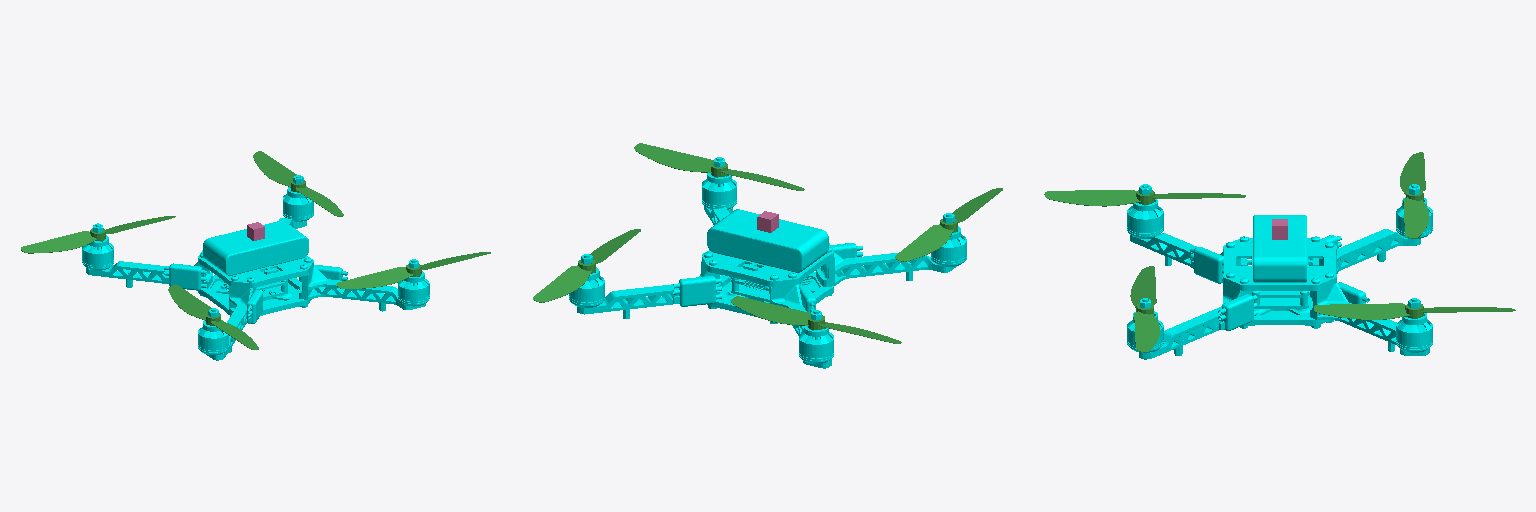
URDF robot description (drone):
<?xml version="1.0" ?>
<!-- =================================================================================== -->
<!-- |    This document was autogenerated by xacro from drone.urdf.xacro               | -->
<!-- |    EDITING THIS FILE BY HAND IS NOT RECOMMENDED                                 | -->
<!-- =================================================================================== -->
<robot name="drone">
  <material name="blue">
    <color rgba="0 0 1 1"/>
  </material>
  <material name="grey">
    <color rgba="0.75 0.75 0.75 1"/>
  </material>
  <material name="WHITE_MTL">
    <color rgba="0 255 255 1.0"/>
    <!-- rviz green color -->
  </material>
  <link name="dummy_link">
    <pose>0 0 0 0 0 0</pose>
  </link>
  <joint name="dummy_joint" type="fixed">
    <parent link="dummy_link"/>
    <child link="base_link"/>
  </joint>
  <link name="base_link">
    <inertial>
      <origin rpy="0 0 0" xyz="0 0 0.02"/>
      <mass value="2"/>
      <inertia ixx="0.0049386751078625" ixy="0" ixz="0" iyy="0.0049386751078625" iyz="0" izz="0.009296329614800002"/>
    </inertial>
    <visual>
      <origin rpy="0 0 0" xyz="0 0 0"/>
      <geometry>
        <mesh filename="package://drone/meshes/base_link.STL"/>
      </geometry>
      <material name="WHITE_MTL"/>
    </visual>
    <collision>
      <origin rpy="0 0 0" xyz="0 0 0"/>
      <geometry>
        <mesh filename="package://drone/meshes/base_link.STL"/>
      </geometry>
    </collision>
  </link>
  <gazebo reference="base_link">
    <material>Gazebo/Black</material>
  </gazebo>
  <link name="prop_1">
    <inertial>
      <origin rpy="0 0 0" xyz="1.38777878078145E-17 1.6252017232217E-05 1.38777878078145E-17"/>
      <mass value="0.00097325565732889"/>
      <inertia ixx="6.26992620308679E-07" ixy="-3.30120444584961E-24" ixz="7.98941079078638E-09" iyy="6.38900379274268E-07" iyz="1.24797735656839E-23" izz="1.55888758686964E-08"/>
    </inertial>
    <visual>
      <origin rpy="0 0 0" xyz="0 0 0"/>
      <geometry>
        <mesh filename="package://drone/meshes/prop_1.STL"/>
      </geometry>
      <material name="">
        <color rgba="0.286274509803922 0.662745098039216 0.329411764705882 1"/>
      </material>
    </visual>
    <collision>
      <origin rpy="0 0 0" xyz="0 0 0"/>
      <geometry>
        <mesh filename="package://drone/meshes/prop_1.STL"/>
      </geometry>
    </collision>
  </link>
  <joint name="motor_1" type="continuous">
    <origin rpy="1.5708 0 1.59" xyz="-0.084853 0.084853 0.0335"/>
    <parent link="base_link"/>
    <child link="prop_1"/>
    <axis xyz="0 1 0"/>
    <limit effort="1000000" lower="-1000000" upper="1000000" velocity="1000000"/>
  </joint>
  <link name="prop_2">
    <inertial>
      <origin rpy="0 0 0" xyz="0 1.6252017232217E-05 -2.77555756156289E-17"/>
      <mass value="0.000973255657328893"/>
      <inertia ixx="6.26992620308679E-07" ixy="2.22863875678516E-24" ixz="7.98941079078498E-09" iyy="6.38900379274269E-07" iyz="-7.82816974953869E-25" izz="1.55888758686964E-08"/>
    </inertial>
    <visual>
      <origin rpy="0 0 0" xyz="0 0 0"/>
      <geometry>
        <mesh filename="package://drone/meshes/prop_2.STL"/>
      </geometry>
      <material name="">
        <color rgba="0.286274509803922 0.662745098039216 0.329411764705882 1"/>
      </material>
    </visual>
    <collision>
      <origin rpy="0 0 0" xyz="0 0 0"/>
      <geometry>
        <mesh filename="package://drone/meshes/prop_2.STL"/>
      </geometry>
    </collision>
  </link>
  <joint name="motor_2" type="continuous">
    <origin rpy="1.5708 0 -3.102" xyz="0.084853 0.084853 0.0335"/>
    <parent link="base_link"/>
    <child link="prop_2"/>
    <axis xyz="0 1 0"/>
    <limit effort="1000000" lower="-1000000" upper="1000000" velocity="1000000"/>
  </joint>
  <link name="prop_3">
    <inertial>
      <origin rpy="0 0 0" xyz="2.77555756156289E-17 0.00301625201723221 -1.38777878078145E-17"/>
      <mass value="0.000973255657328892"/>
      <inertia ixx="6.26992620308679E-07" ixy="3.59808441353406E-24" ixz="7.98941079078556E-09" iyy="6.38900379274268E-07" iyz="7.60544173089602E-24" izz="1.55888758686964E-08"/>
    </inertial>
    <visual>
      <origin rpy="0 0 0" xyz="0 0 0"/>
      <geometry>
        <mesh filename="package://drone/meshes/prop_3.STL"/>
      </geometry>
      <material name="">
        <color rgba="0.286274509803922 0.662745098039216 0.329411764705882 1"/>
      </material>
    </visual>
    <collision>
      <origin rpy="0 0 0" xyz="0 0 0"/>
      <geometry>
        <mesh filename="package://drone/meshes/prop_3.STL"/>
      </geometry>
    </collision>
  </link>
  <joint name="motor_3" type="continuous">
    <origin rpy="1.5708 0 -1.5516" xyz="0.084853 -0.084853 0.0305"/>
    <parent link="base_link"/>
    <child link="prop_3"/>
    <axis xyz="0 1 0"/>
    <limit effort="1000000" lower="-1000000" upper="1000000" velocity="1000000"/>
  </joint>
  <link name="prop_4">
    <inertial>
      <origin rpy="0 0 0" xyz="2.77555756156289E-17 0.00301625201723221 0"/>
      <mass value="0.000973255657328888"/>
      <inertia ixx="6.26992620308678E-07" ixy="7.16859571560985E-24" ixz="7.98941079078488E-09" iyy="6.38900379274267E-07" iyz="2.55140400374983E-23" izz="1.55888758686963E-08"/>
    </inertial>
    <visual>
      <origin rpy="0 0 0" xyz="0 0 0"/>
      <geometry>
        <mesh filename="package://drone/meshes/prop_4.STL"/>
      </geometry>
      <material name="">
        <color rgba="0.286274509803922 0.662745098039216 0.329411764705882 1"/>
      </material>
    </visual>
    <collision>
      <origin rpy="0 0 0" xyz="0 0 0"/>
      <geometry>
        <mesh filename="package://drone/meshes/prop_4.STL"/>
      </geometry>
    </collision>
  </link>
  <joint name="motor_4" type="continuous">
    <origin rpy="1.5708 0 0.039629" xyz="-0.084853 -0.084853 0.0305"/>
    <parent link="base_link"/>
    <child link="prop_4"/>
    <axis xyz="0 1 0"/>
    <limit effort="1000000" lower="-1000000" upper="1000000" velocity="1000000"/>
  </joint>
  <link name="imu_link">
    <inertial>
      <mass value="0.001"/>
      <origin rpy="0 0 0" xyz="0 0 0"/>
      <inertia ixx="0.0001" ixy="0" ixz="0" iyy="0.000001" iyz="0" izz="0.0001"/>
    </inertial>
    <visual>
      <origin rpy="0 0 0" xyz="0 0 0"/>
      <geometry>
        <box size="0.01 0.01 0.01"/>
      </geometry>
      <material name="red"/>
    </visual>
    <collision>
      <origin rpy="0 0 0" xyz="0 0 0"/>
      <geometry>
        <box size=".01 .01 .01"/>
      </geometry>
    </collision>
  </link>
  <joint name="imu_joint" type="fixed">
    <axis xyz="1 0 0"/>
    <origin xyz="0 0 0.05"/>
    <parent link="base_link"/>
    <child link="imu_link"/>
  </joint>
  <gazebo reference="prop_1">
    <material>Gazebo/Green</material>
  </gazebo>
  <gazebo reference="prop_2">
    <material>Gazebo/Green</material>
  </gazebo>
  <gazebo reference="prop_3">
    <material>Gazebo/Green</material>
  </gazebo>
  <gazebo reference="prop_4">
    <material>Gazebo/Green</material>
  </gazebo>
  <gazebo reference="imu_link">
    <material>Gazebo/Orange</material>
  </gazebo>
  <!-- Transmission -->
  <transmission name="trans_motor1">
    <type>transmission_interface/SimpleTransmission</type>
    <joint name="motor_1">
      <hardwareInterface>hardware_interface/VelocityJointInterface</hardwareInterface>
    </joint>
    <actuator name="motor1">
      <hardwareInterface>hardware_interface/VelocityJointInterface</hardwareInterface>
      <mechanicalReduction>1</mechanicalReduction>
    </actuator>
  </transmission>
  <transmission name="trans_motor2">
    <type>transmission_interface/SimpleTransmission</type>
    <joint name="motor_2">
      <hardwareInterface>hardware_interface/VelocityJointInterface</hardwareInterface>
    </joint>
    <actuator name="motor2">
      <hardwareInterface>hardware_interface/VelocityJointInterface</hardwareInterface>
      <mechanicalReduction>1</mechanicalReduction>
    </actuator>
  </transmission>
  <transmission name="trans_motor3">
    <type>transmission_interface/SimpleTransmission</type>
    <joint name="motor_3">
      <hardwareInterface>hardware_interface/VelocityJointInterface</hardwareInterface>
    </joint>
    <actuator name="motor3">
      <hardwareInterface>hardware_interface/VelocityJointInterface</hardwareInterface>
      <mechanicalReduction>1</mechanicalReduction>
    </actuator>
  </transmission>
  <transmission name="trans_motor4">
    <type>transmission_interface/SimpleTransmission</type>
    <joint name="motor_4">
      <hardwareInterface>hardware_interface/VelocityJointInterface</hardwareInterface>
    </joint>
    <actuator name="motor4">
      <hardwareInterface>hardware_interface/VelocityJointInterface</hardwareInterface>
      <mechanicalReduction>1</mechanicalReduction>
    </actuator>
  </transmission>
  <gazebo>
    <plugin filename="libgazebo_ros_control.so" name="gazebo_ros_control">
      <robotNamespace>/drone</robotNamespace>
      <robotSimType>gazebo_ros_control/DefaultRobotHWSim</robotSimType>
      <legacyModeNS>true</legacyModeNS>
    </plugin>
    <plugin filename="libdrone_plugin.so" name="drone_plugin">
      <updateRate>500</updateRate>
      <publishTf>true</publishTf>
      <rotorThrustCoeff>0.00001</rotorThrustCoeff>
      <rotorTorqueCoeff>0.0000004</rotorTorqueCoeff>
    </plugin>
    <plugin filename="libgazebo_ros_imu.so" name="imu_plugin">
      <alwaysOn>true</alwaysOn>
      <bodyName>imu_link</bodyName>
      <topicName>drone/imu</topicName>
      <frameName>imu_link</frameName>
      <serviceName>imu_service</serviceName>
      <gaussianNoise>0.0</gaussianNoise>
      <updateRate>20.0</updateRate>
    </plugin>
  </gazebo>
</robot>

--- Facts derived from the render (not from the file) ---
Views: 3 orthographic renders of the robot side by side, from view 1: azimuth 30°, elevation 25°; view 2: azimuth 150°, elevation 25°; view 3: azimuth 270°, elevation 25°.
Model drone with 7 links and 6 joints (4 continuous, 2 fixed), rooted at dummy_link, posed all joints at 0.
Visible links, largest first — view 1: base_link, prop_1, prop_3, prop_4, prop_2; view 2: base_link, prop_1, prop_3, prop_2, prop_4; view 3: base_link, prop_2, prop_4, prop_1, prop_3.
Link boxes in pixels (x1,y1,x2,y2): base_link: [82, 175, 429, 360]; prop_1: [21, 216, 175, 253]; prop_3: [336, 252, 490, 288]; prop_4: [168, 285, 258, 349]; prop_2: [253, 151, 343, 216]; base_link: [569, 157, 966, 368]; prop_1: [731, 296, 901, 343]; prop_3: [634, 143, 804, 190]; prop_2: [533, 229, 640, 302]; prop_4: [895, 188, 1002, 261]; base_link: [1127, 184, 1432, 359]; prop_2: [1314, 303, 1515, 319]; prop_4: [1044, 190, 1245, 206]; prop_1: [1400, 152, 1429, 238]; prop_3: [1130, 266, 1159, 352].
Size in the robot's own frame: 0.2968 by 0.297 by 0.059 metres.
Meshes: 5 distinct files referenced, 5 mesh visuals loaded (5 binary STL).